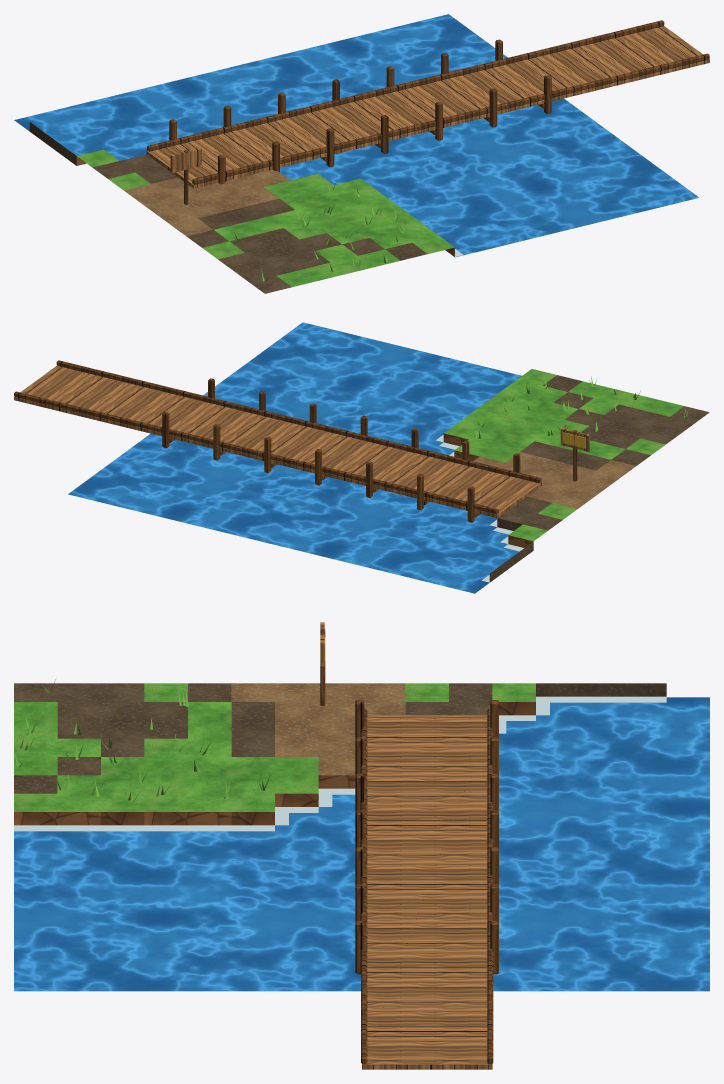
The model's file is chunk_3_16.glb.
3 renders of one model, top to bottom at view 1: azimuth 30°, elevation 25°; view 2: azimuth 150°, elevation 25°; view 3: azimuth 270°, elevation 25°, orthographic. The views are drawn at different scales.
Visible parts, largest first — view 1: chunk_3_16; view 2: chunk_3_16; view 3: chunk_3_16.
Boxes of the visible parts, bbox=[...] form: chunk_3_16: bbox=[14, 14, 709, 293]; chunk_3_16: bbox=[14, 322, 709, 593]; chunk_3_16: bbox=[14, 622, 709, 1069].
Bounding box in the file's own units: 21 × 2.25 × 16.
Materials: 11 (8 with a texture image).
